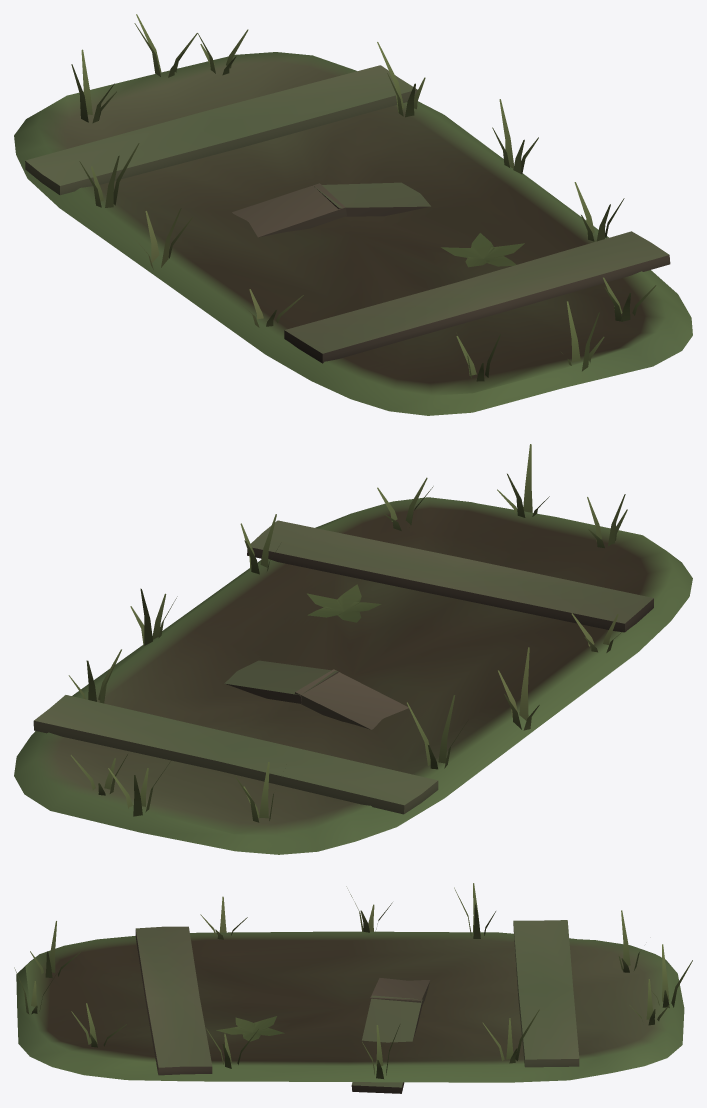
The model's file is ph_prop_pit_sunken.glb.
3 renders of one model, top to bottom at view 1: azimuth 30°, elevation 25°; view 2: azimuth 150°, elevation 25°; view 3: azimuth 270°, elevation 25°, orthographic. The views are drawn at different scales.
Visible parts, largest first — view 1: ph_prop_pit_sunken; view 2: ph_prop_pit_sunken; view 3: ph_prop_pit_sunken.
Boxes of the visible parts, left/top/right/bottom form: ph_prop_pit_sunken: left=14, top=14, right=692, bottom=415; ph_prop_pit_sunken: left=14, top=444, right=692, bottom=854; ph_prop_pit_sunken: left=14, top=883, right=692, bottom=1093.
Size of the model in its own units: 1.16 by 0.2574 by 2.13.
